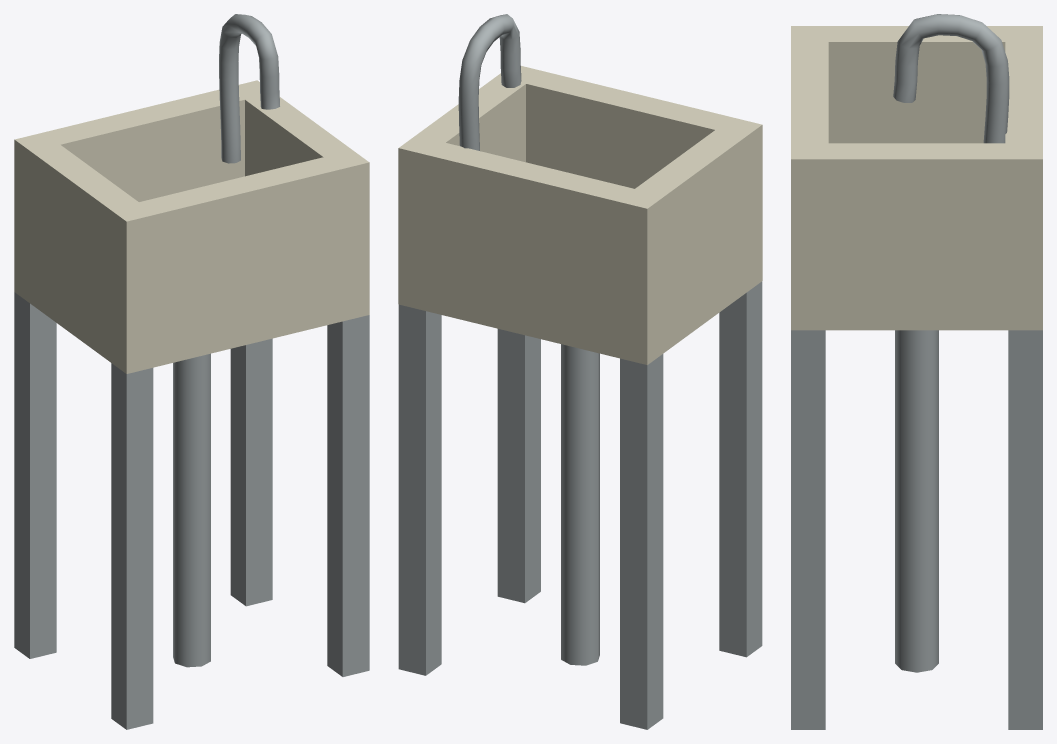
The model's file is roadside-survival-stops-windshield-wash-stand-1b90adbe__23538.glb.
The picture shows the model from 3 angles, left to right: view 1: azimuth 30°, elevation 25°; view 2: azimuth 150°, elevation 25°; view 3: azimuth 270°, elevation 25°; orthographic projection. The views are drawn at different scales.
Parts seen in each view (by area): view 1: windshield-wash-stand; view 2: windshield-wash-stand; view 3: windshield-wash-stand.
Boxes of the visible parts, bbox=[...] form: windshield-wash-stand: bbox=[14, 14, 369, 729]; windshield-wash-stand: bbox=[398, 14, 762, 729]; windshield-wash-stand: bbox=[791, 14, 1042, 729].
Bounding box in the file's own units: 0.5 × 1.21 × 0.4.
